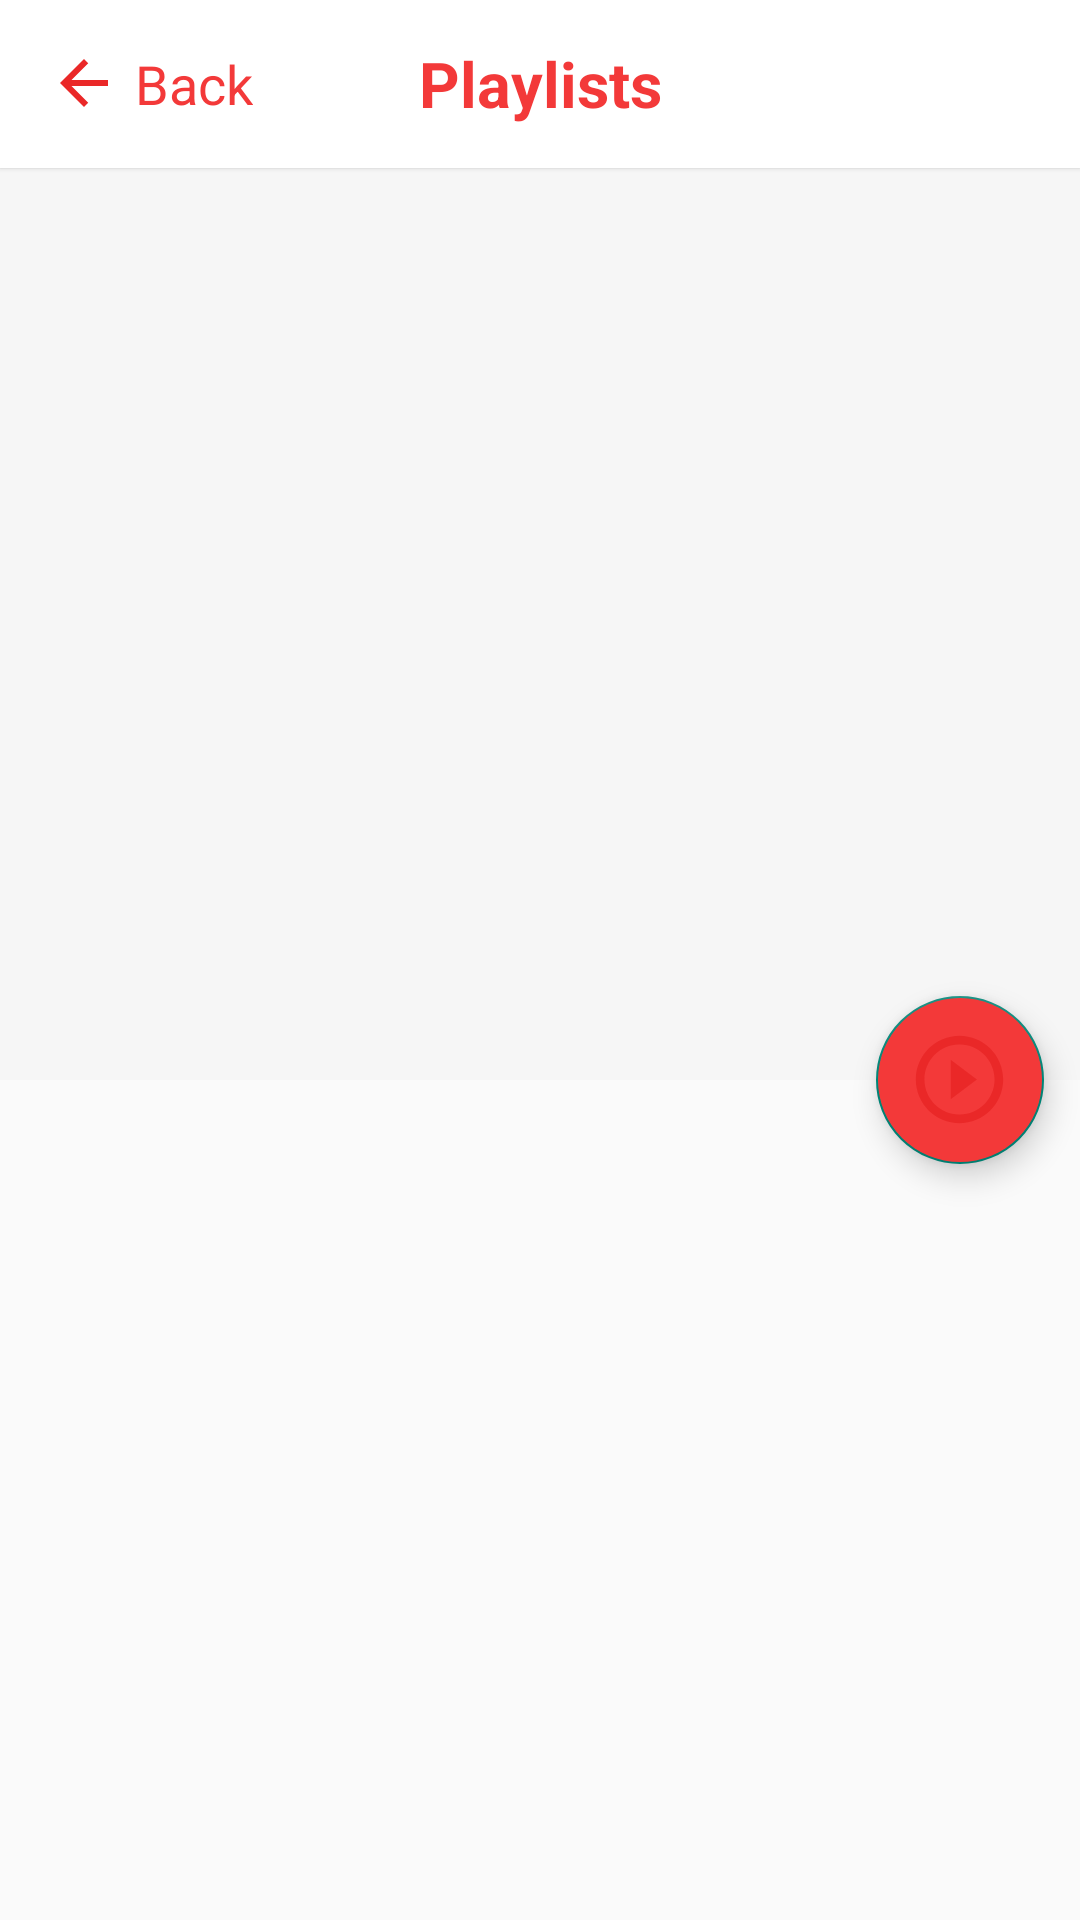

Screen size 1080 x 1920. Icon name, then its center in pixels as (x,y):
button play: (960,1080)
